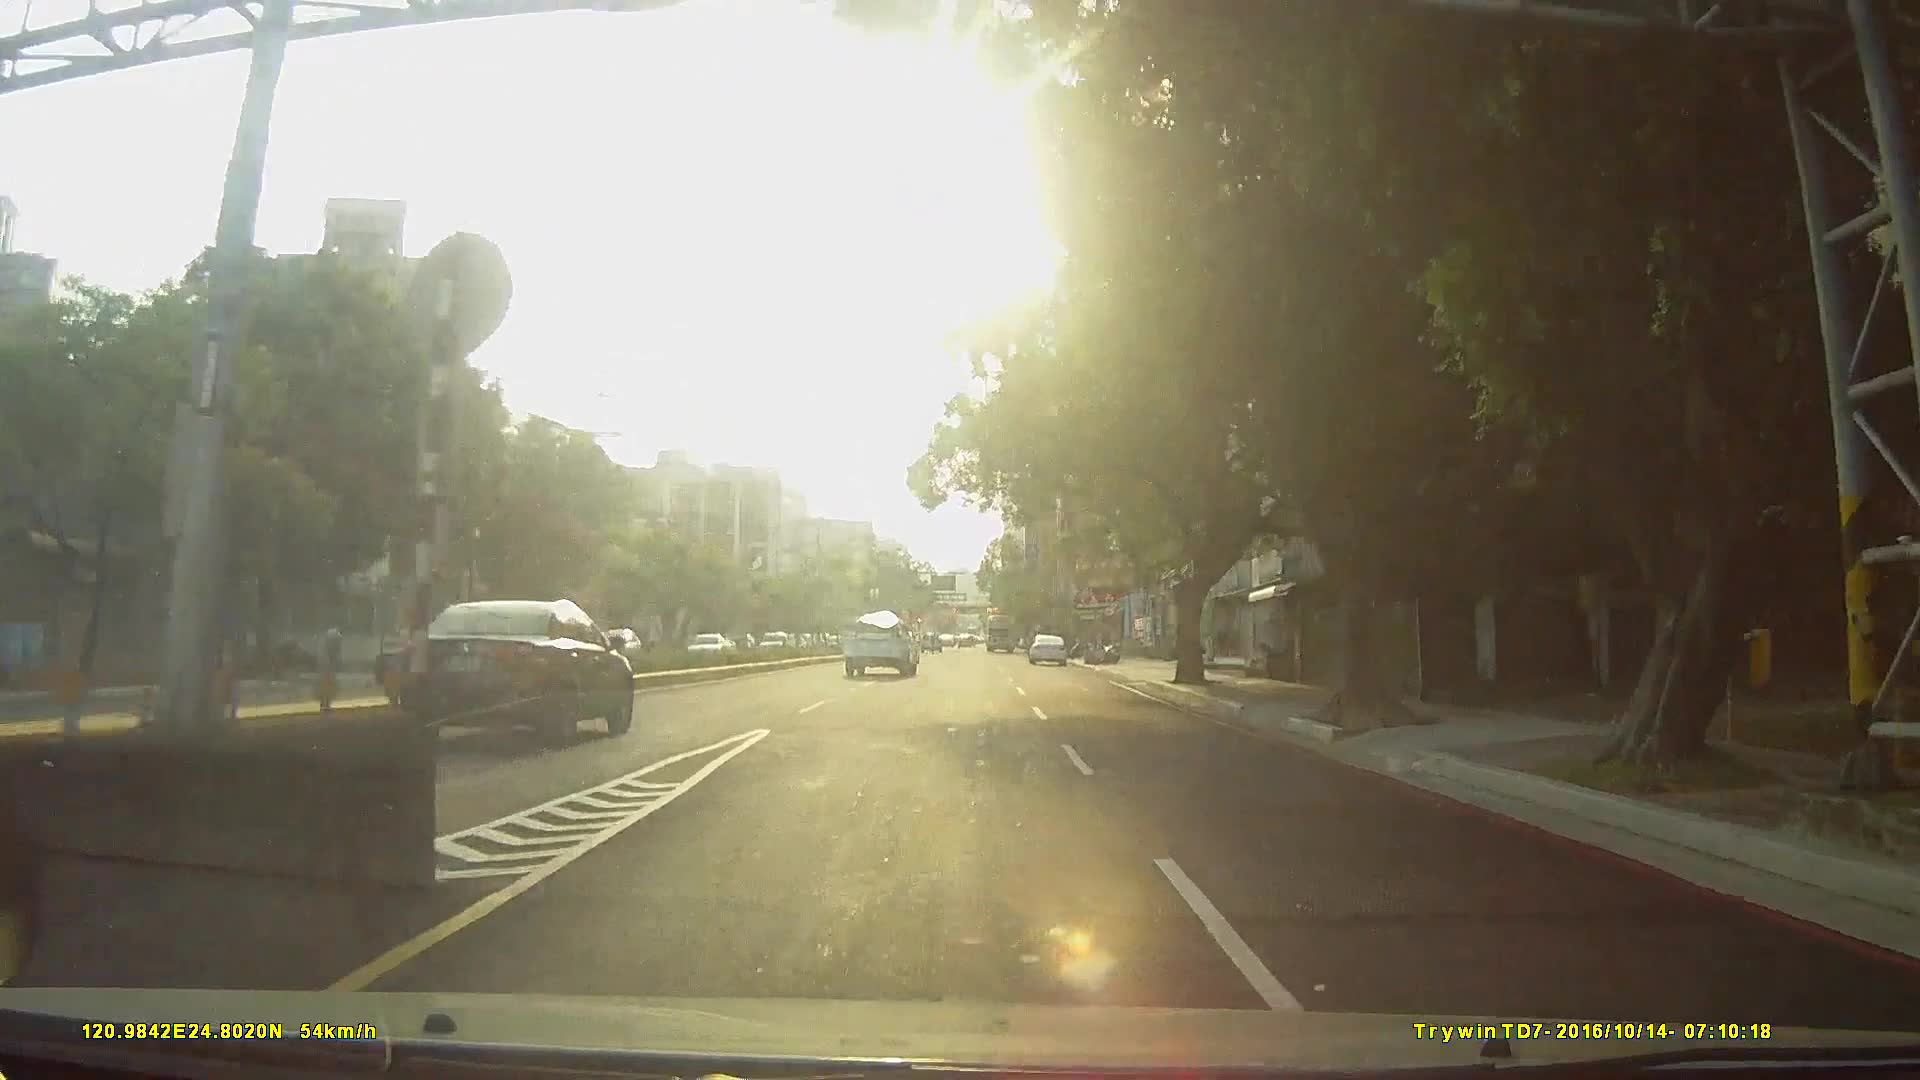pedestrian: (322, 623, 348, 677)
vehicle: (400, 592, 637, 739), (840, 606, 918, 673), (1026, 629, 1068, 665), (982, 609, 1017, 651)
